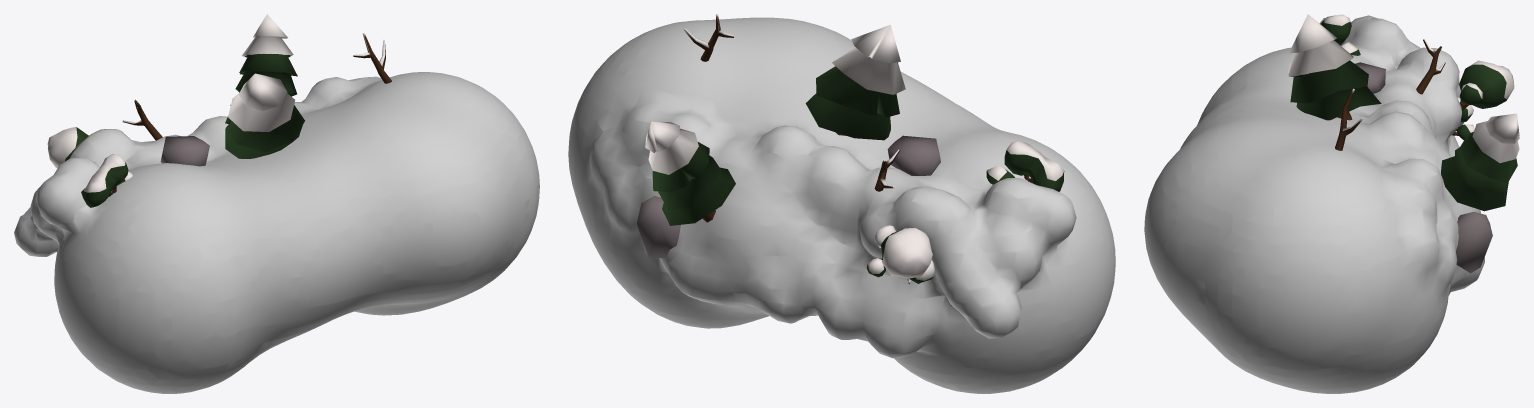
The model's file is Avalanche.dae.
The picture shows the model from 3 angles, left to right: view 1: azimuth 30°, elevation 25°; view 2: azimuth 150°, elevation 25°; view 3: azimuth 270°, elevation 25°; orthographic projection. The views are drawn at different scales.
Parts seen in each view (by area): view 1: Mball-058; view 2: Mball-058; view 3: Mball-058.
Part boxes in pixels (left/top/right/bottom): Mball-058: left=14, top=14, right=539, bottom=393; Mball-058: left=568, top=14, right=1115, bottom=393; Mball-058: left=1144, top=14, right=1519, bottom=393.
Size of the model in its own units: 27.6 by 16.83 by 18.57.
2 materials, 1 textured.
